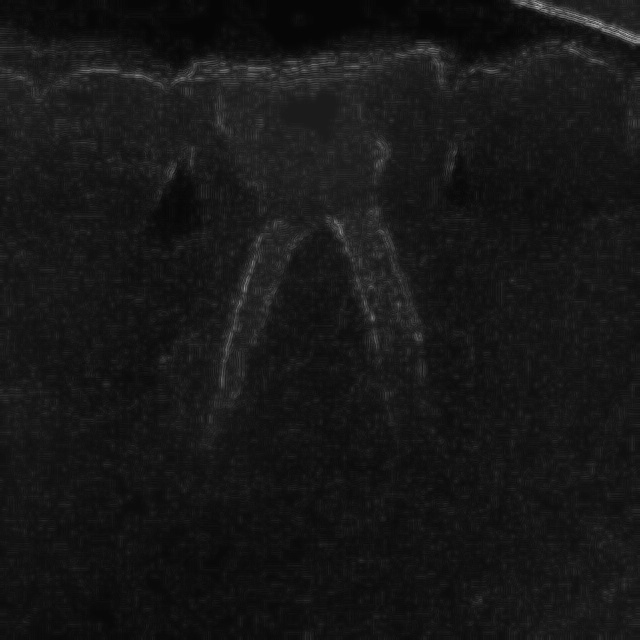Class 0- No endodontic treatment: (156, 41, 498, 516)
